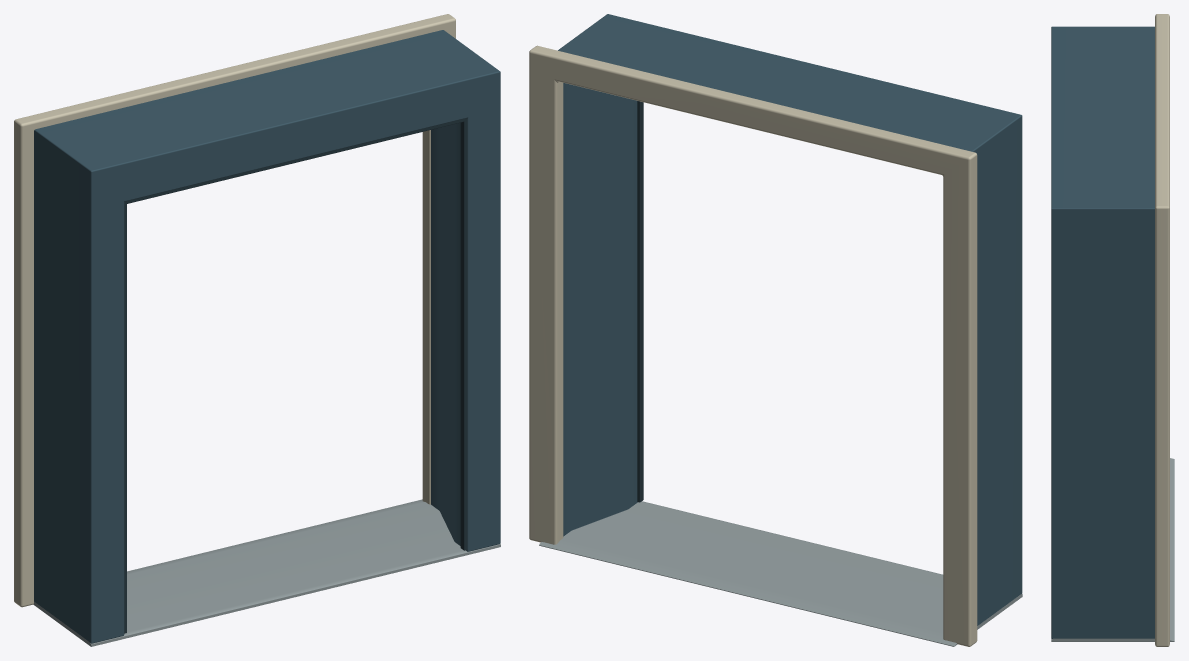
The model's file is city_shop_fittings_03_double.glb.
The picture shows the model from 3 angles, left to right: view 1: azimuth 30°, elevation 25°; view 2: azimuth 150°, elevation 25°; view 3: azimuth 270°, elevation 25°; orthographic projection. The views are drawn at different scales.
Parts seen in each view (by area): view 1: double_recessed_reveal, double_sloped_threshold, double_rounded_face_casing, double_rear_stop; view 2: double_recessed_reveal, double_rounded_face_casing, double_sloped_threshold, double_rear_stop; view 3: double_recessed_reveal, double_rounded_face_casing, double_sloped_threshold.
Part boxes in pixels (x1,y1,x2,y2): double_recessed_reveal: (34, 30, 500, 643); double_sloped_threshold: (33, 499, 500, 646); double_rounded_face_casing: (14, 14, 455, 607); double_rear_stop: (124, 118, 467, 633); double_recessed_reveal: (558, 14, 1022, 625); double_rounded_face_casing: (529, 45, 977, 646); double_sloped_threshold: (539, 501, 1022, 646); double_rear_stop: (637, 101, 643, 502); double_recessed_reveal: (1051, 26, 1154, 638); double_rounded_face_casing: (1155, 14, 1169, 646); double_sloped_threshold: (1051, 458, 1174, 641).
Bounding box in the file's own units: 2.34 × 2.48 × 0.63.
